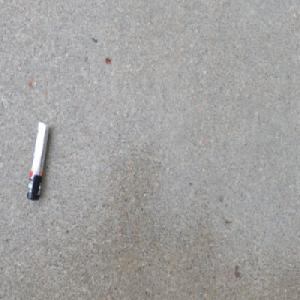Battery: (25, 119, 50, 202)
